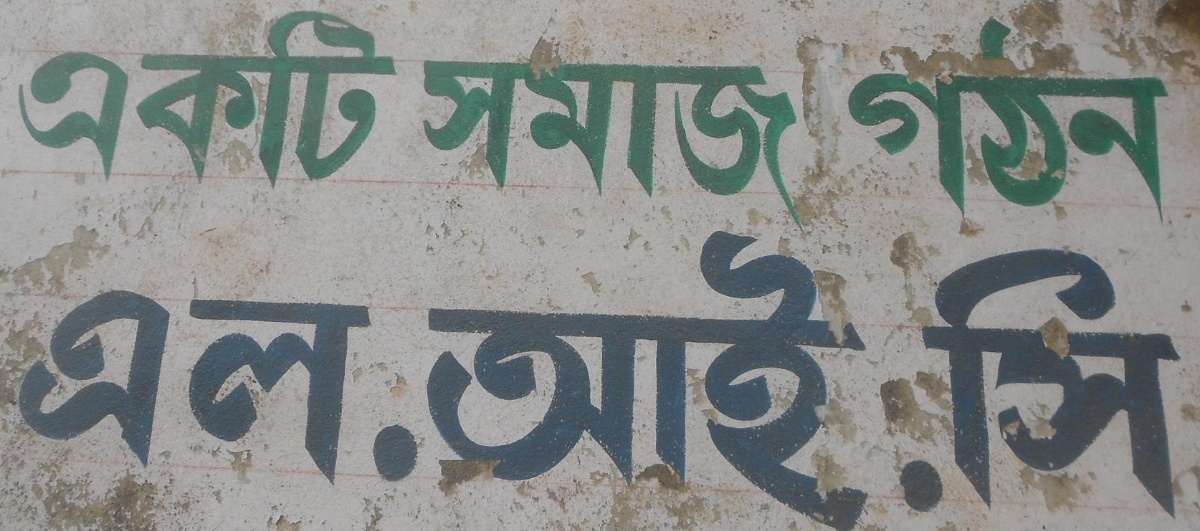text: (417, 220, 432, 529), (433, 220, 448, 529), (449, 220, 464, 529), (465, 220, 480, 529), (481, 220, 496, 529), (497, 220, 512, 529), (513, 220, 528, 529), (529, 220, 544, 529), (545, 220, 560, 529), (561, 220, 576, 529), (577, 220, 592, 529), (593, 220, 608, 529), (609, 220, 624, 529), (625, 220, 640, 529), (641, 220, 656, 529), (657, 220, 672, 529), (673, 220, 688, 529), (689, 220, 704, 529), (705, 220, 720, 529), (721, 220, 736, 529), (737, 220, 752, 529), (753, 220, 768, 529), (769, 220, 784, 529), (785, 220, 800, 529), (801, 220, 816, 529), (817, 220, 832, 529), (833, 220, 848, 529), (849, 220, 864, 529), (913, 246, 928, 518), (929, 246, 944, 518), (945, 246, 960, 518), (961, 246, 976, 518), (977, 246, 992, 518), (993, 246, 1008, 518), (1009, 246, 1024, 518), (1025, 246, 1040, 518), (1041, 246, 1056, 518), (1057, 246, 1072, 518), (1073, 246, 1088, 518), (1089, 246, 1104, 518), (1105, 246, 1120, 518), (1121, 246, 1136, 518), (1137, 246, 1152, 518), (1153, 246, 1168, 518), (1169, 246, 1183, 518), (865, 16, 880, 220), (881, 16, 896, 220), (897, 16, 912, 220), (913, 16, 928, 220), (929, 16, 944, 220), (945, 16, 960, 220), (961, 16, 976, 220), (977, 16, 992, 220), (993, 16, 1008, 220), (1009, 16, 1024, 220), (1025, 16, 1040, 220), (1041, 16, 1056, 220), (1057, 16, 1072, 220), (1073, 16, 1088, 220), (1089, 16, 1104, 220), (1105, 16, 1120, 220), (1121, 16, 1136, 220), (1137, 16, 1152, 220), (33, 283, 48, 486), (49, 283, 64, 486), (65, 283, 80, 486), (81, 283, 96, 486), (97, 283, 112, 486), (113, 283, 128, 486), (129, 283, 144, 486), (145, 283, 160, 486), (161, 283, 176, 486), (177, 283, 192, 486), (193, 283, 208, 486), (209, 283, 224, 486), (225, 283, 240, 486), (241, 283, 256, 486), (257, 283, 272, 486), (273, 283, 288, 486), (289, 283, 304, 486), (305, 283, 320, 486), (321, 283, 336, 486), (337, 283, 352, 486), (353, 283, 368, 486), (1153, 16, 1167, 220), (33, 4, 48, 194), (49, 4, 64, 194), (65, 4, 80, 194), (81, 4, 96, 194), (97, 4, 112, 194), (113, 4, 128, 194), (129, 4, 144, 194), (145, 4, 160, 194), (161, 4, 176, 194), (177, 4, 192, 194), (193, 4, 208, 194), (209, 4, 224, 194), (225, 4, 240, 194), (241, 4, 256, 194), (257, 4, 272, 194), (273, 4, 288, 194), (289, 4, 304, 194), (305, 4, 320, 194), (321, 4, 336, 194), (337, 4, 352, 194), (353, 4, 368, 194), (369, 4, 384, 194), (385, 4, 400, 194), (433, 59, 448, 243), (449, 59, 464, 243), (465, 59, 480, 243), (481, 59, 496, 243), (497, 59, 512, 243), (513, 59, 528, 243), (529, 59, 544, 243), (545, 59, 560, 243), (561, 59, 576, 243), (577, 59, 592, 243), (593, 59, 608, 243), (609, 59, 624, 243), (625, 59, 640, 243), (641, 59, 656, 243), (657, 59, 672, 243), (673, 59, 688, 243), (689, 59, 704, 243), (705, 59, 720, 243), (721, 59, 736, 243), (737, 59, 752, 243), (753, 59, 768, 243), (769, 59, 784, 243), (785, 59, 800, 243), (851, 16, 864, 220), (401, 4, 413, 194), (801, 59, 812, 243), (369, 283, 378, 486), (423, 59, 432, 243), (24, 283, 32, 486), (411, 220, 416, 529), (865, 220, 869, 529), (31, 4, 32, 194)
